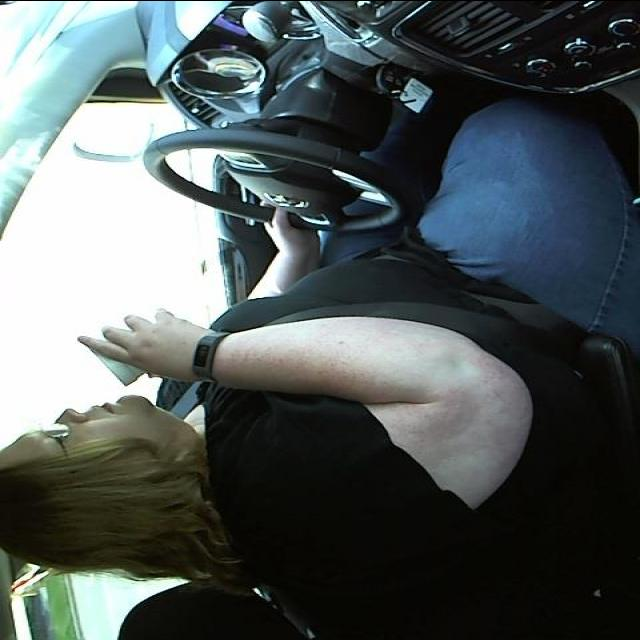drinking: (81, 305, 173, 386)
